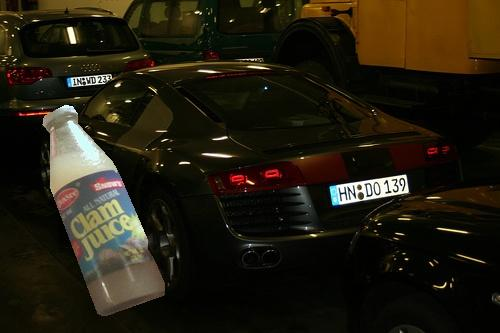tampered: (43, 106, 165, 316)
